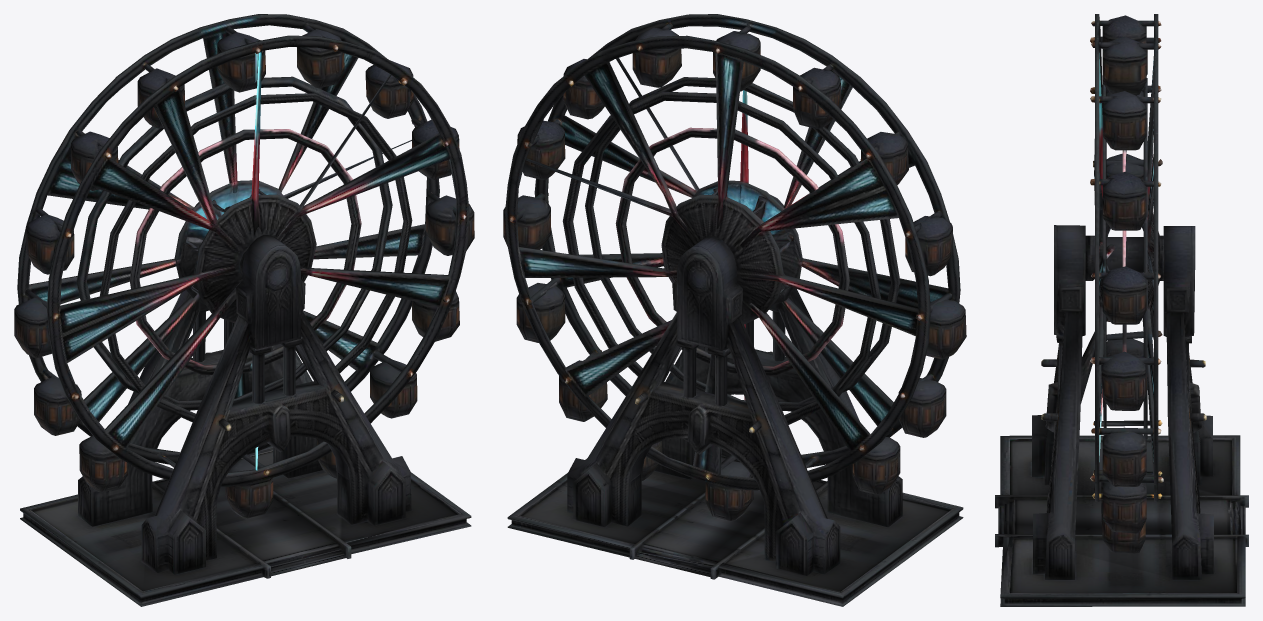
Rendered from asset_pack_item_glb-vd7cxkype8hjmjh2dz3cd04pa58btdj9-6-ks7em6e2ktwsg4qhs0ahm7ezfs8bt8dq.glb.
3 views of the same model, side by side, from view 1: azimuth 30°, elevation 25°; view 2: azimuth 150°, elevation 25°; view 3: azimuth 270°, elevation 25° (orthographic).
Visible parts, largest first — view 1: gotham-ferris-wheel; view 2: gotham-ferris-wheel; view 3: gotham-ferris-wheel.
Boxes of the visible parts, x1,y1,x2,y2 form: gotham-ferris-wheel: [14, 14, 474, 606]; gotham-ferris-wheel: [503, 14, 966, 606]; gotham-ferris-wheel: [995, 14, 1248, 606].
Bounding box in the file's own units: 0.9629 × 0.998 × 0.4707.
1 material, 1 textured.
